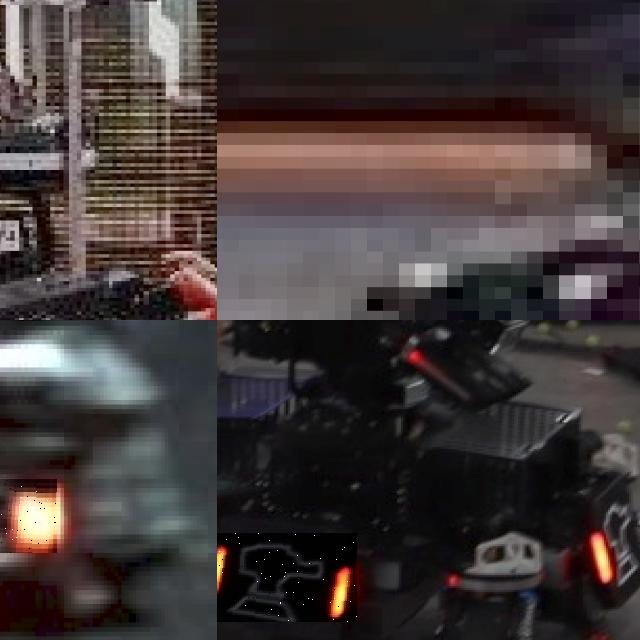Rs: (217, 532, 356, 622), (589, 489, 640, 590), (0, 479, 57, 553)
